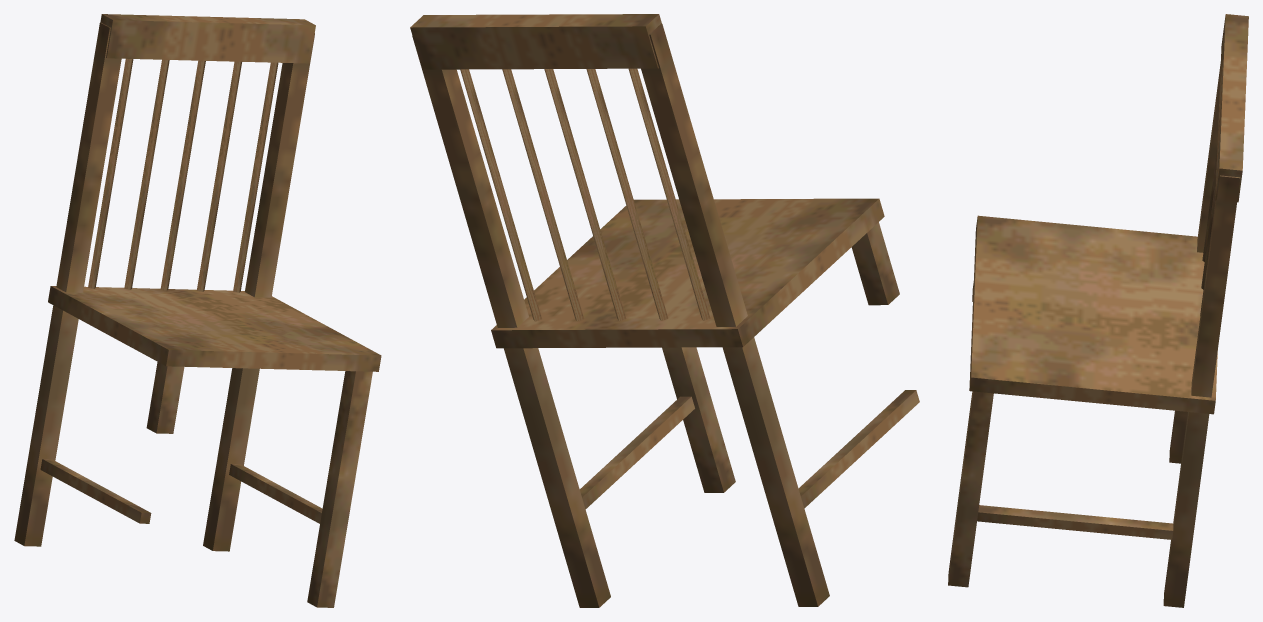
Rendered from chair_broken.fbx.
The picture shows the model from 3 angles, left to right: view 1: azimuth 30°, elevation 25°; view 2: azimuth 150°, elevation 25°; view 3: azimuth 270°, elevation 25°; orthographic projection. The views are drawn at different scales.
Visible parts, largest first — view 1: chair_broken; view 2: chair_broken; view 3: chair_broken.
Part boxes in pixels (x1=…): chair_broken: x1=14, y1=14, x2=381, y2=607; chair_broken: x1=410, y1=14, x2=919, y2=607; chair_broken: x1=948, y1=14, x2=1248, y2=607.
Size of the model in its own units: 0.6434 by 1.04 by 0.5138.
1 material, 1 textured.
